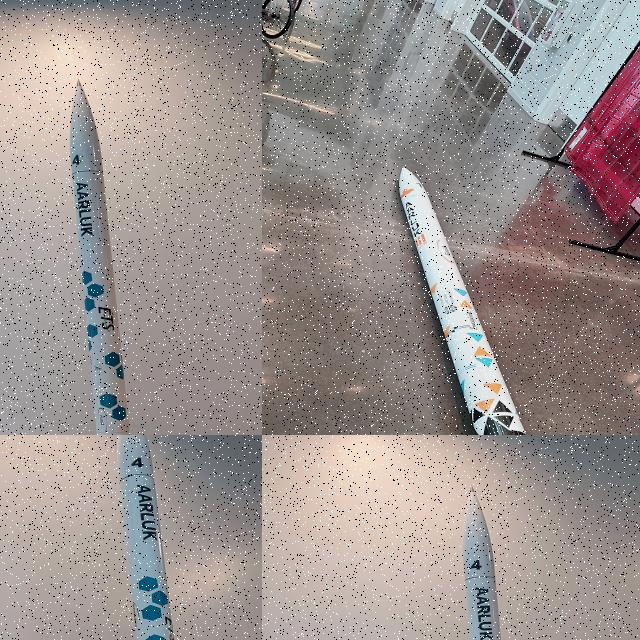Rocket: (398, 166, 527, 435), (69, 78, 130, 435), (116, 435, 175, 640), (462, 485, 502, 640)
